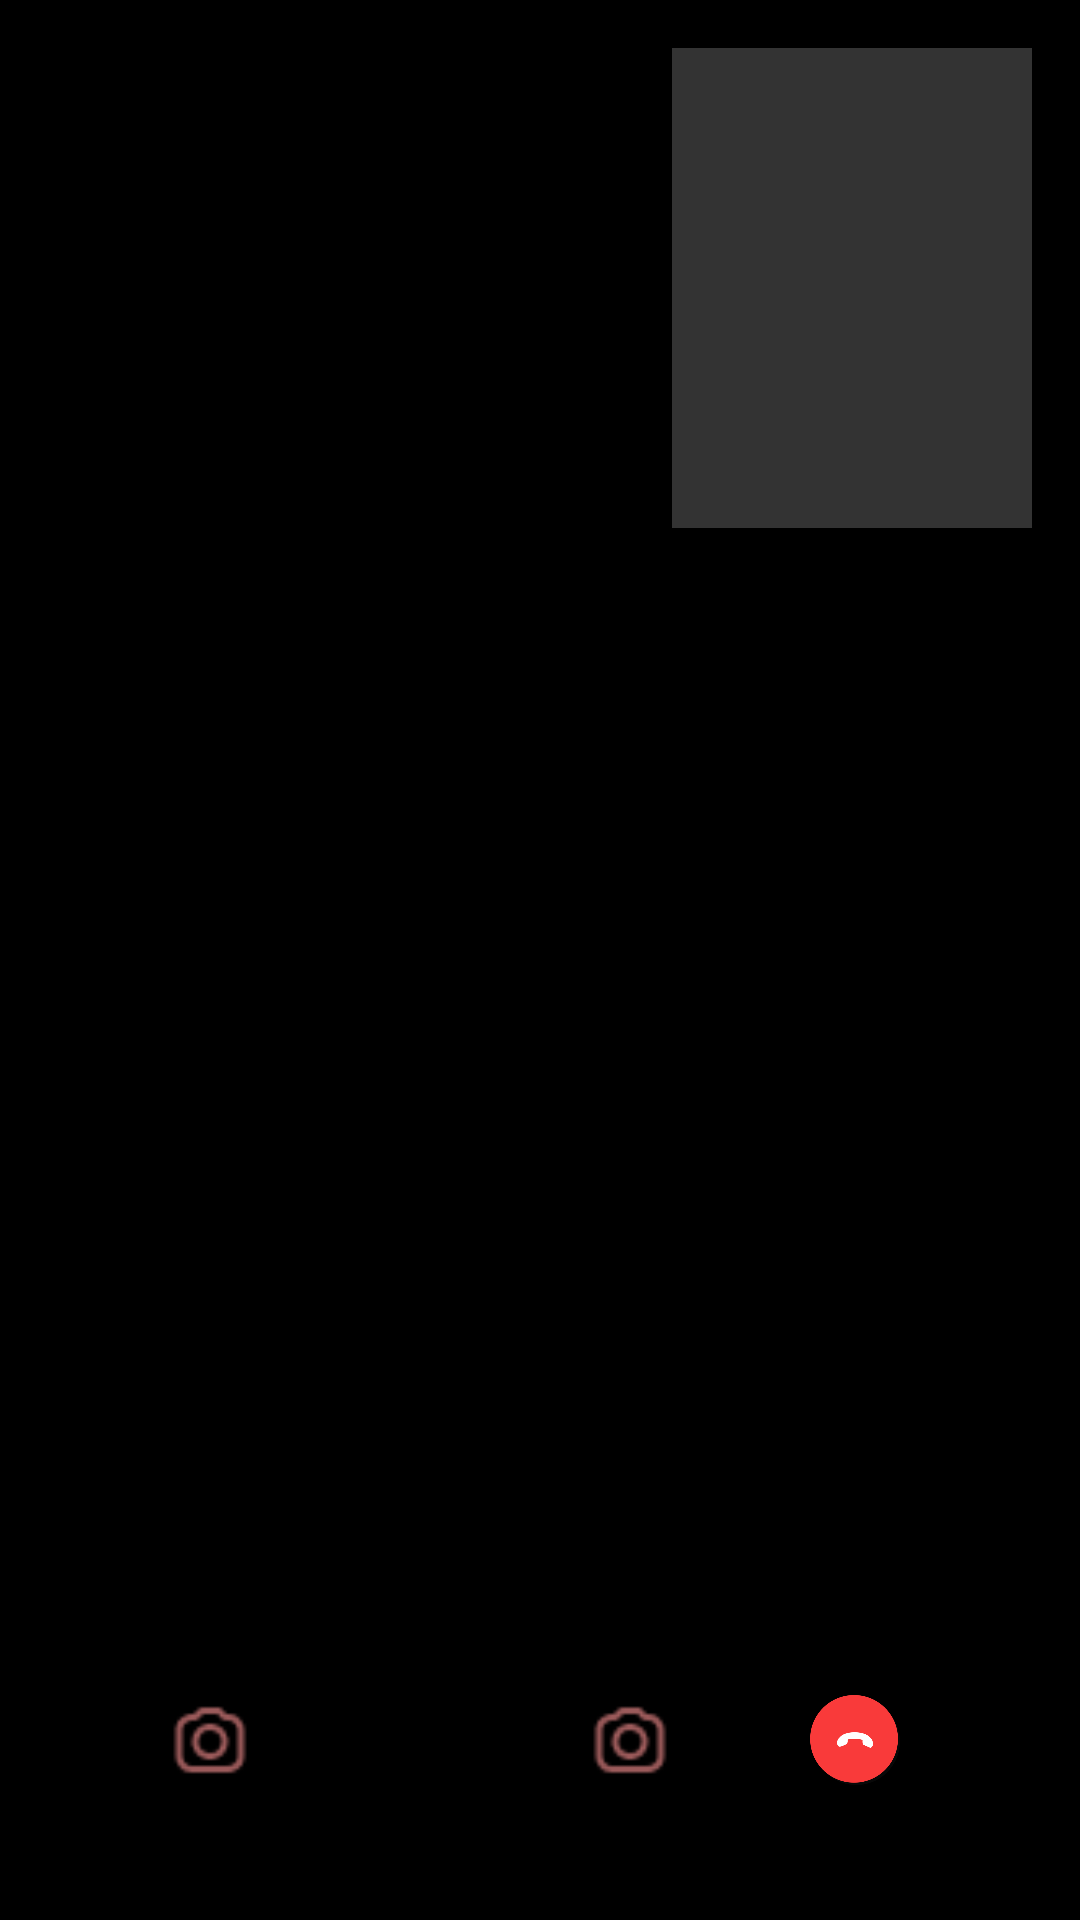

Locate icon controls on the screen. Image size 1080px x 1920px, boxes as box(x1, y1, x2, y2).
End Call: box(810, 1695, 898, 1783)
